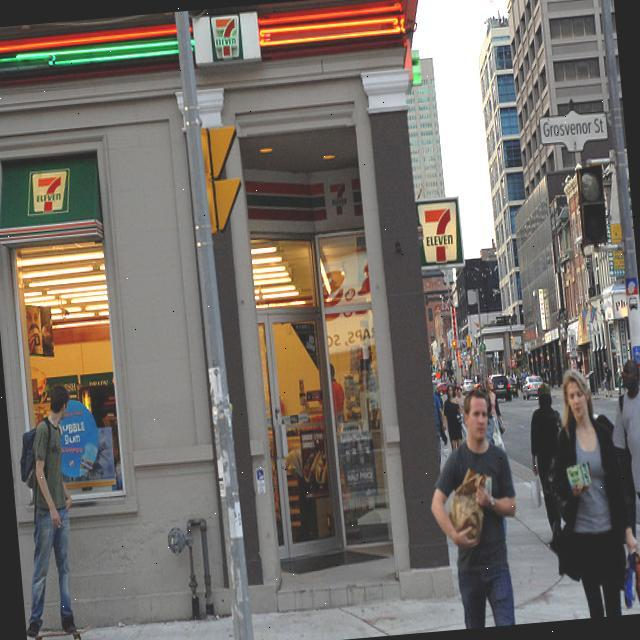fire_hydrant: (164, 516, 218, 620)
